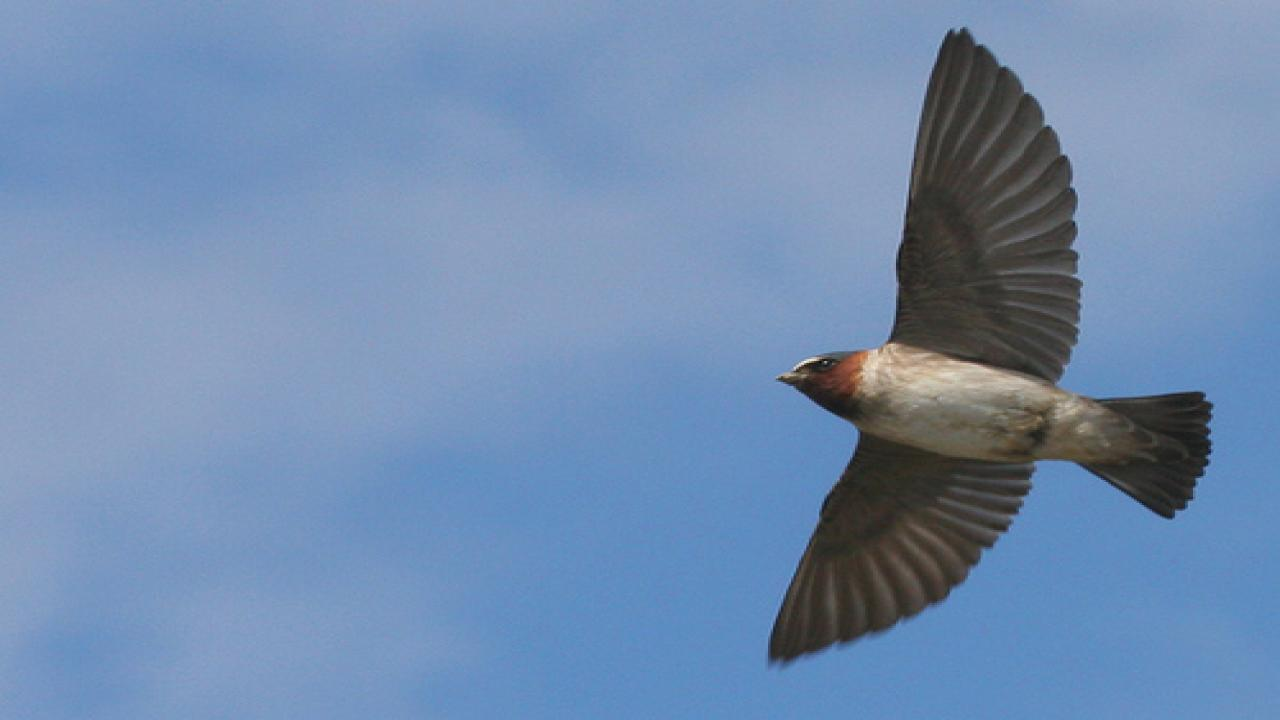Bird: (755, 16, 1235, 680)
